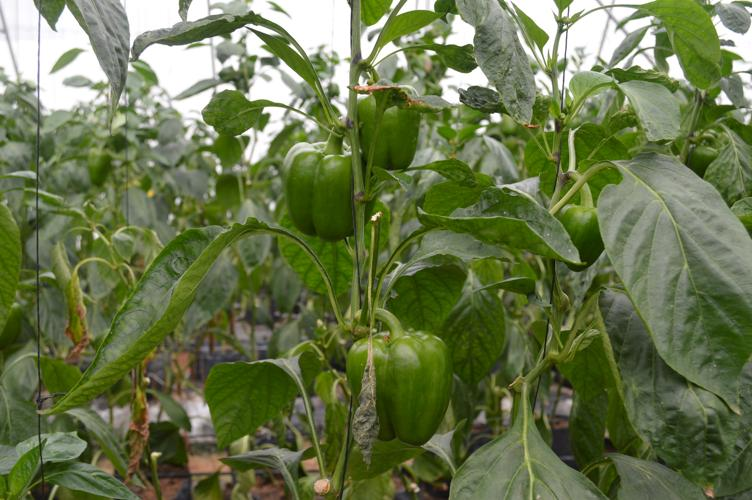BellPepper: (324, 307, 460, 458), (279, 141, 368, 243), (346, 83, 428, 169), (544, 193, 614, 278)
